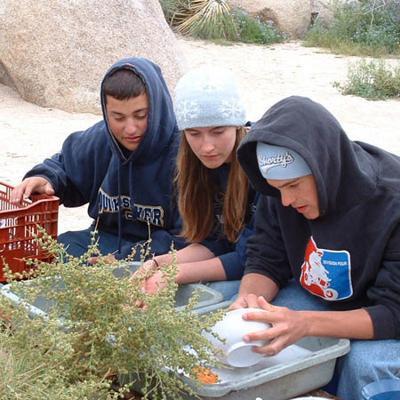person: (234, 92, 399, 399)
